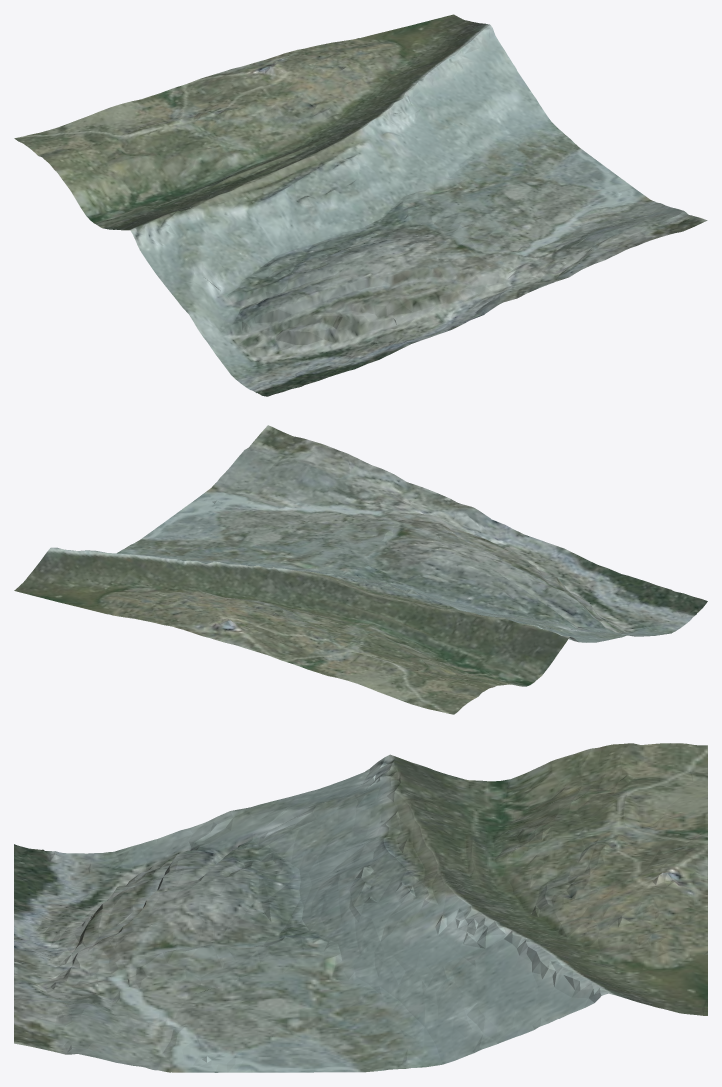
3 renders of one model, top to bottom at view 1: azimuth 30°, elevation 25°; view 2: azimuth 150°, elevation 25°; view 3: azimuth 270°, elevation 25°, orthographic. The views are drawn at different scales.
Visible parts, largest first — view 1: Plane; view 2: Plane; view 3: Plane.
Part boxes in pixels (x1=…): Plane: x1=14, y1=14, x2=707, y2=396; Plane: x1=14, y1=425, x2=707, y2=714; Plane: x1=14, y1=743, x2=707, y2=1072.
Bounding box in the file's own units: 0.8 × 0.1948 × 0.8.
1 material, 1 textured.
